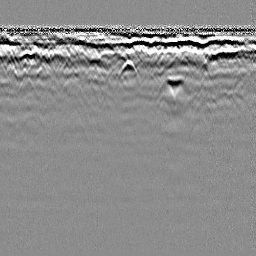cavity: (117, 58, 141, 80)
